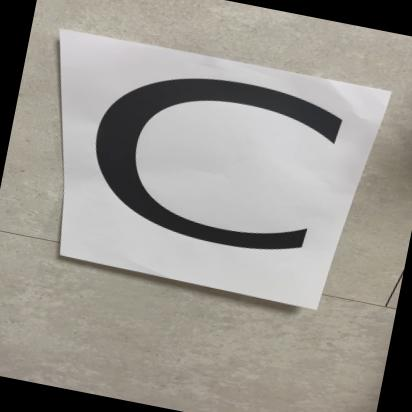seat: (23, 27, 378, 310)
